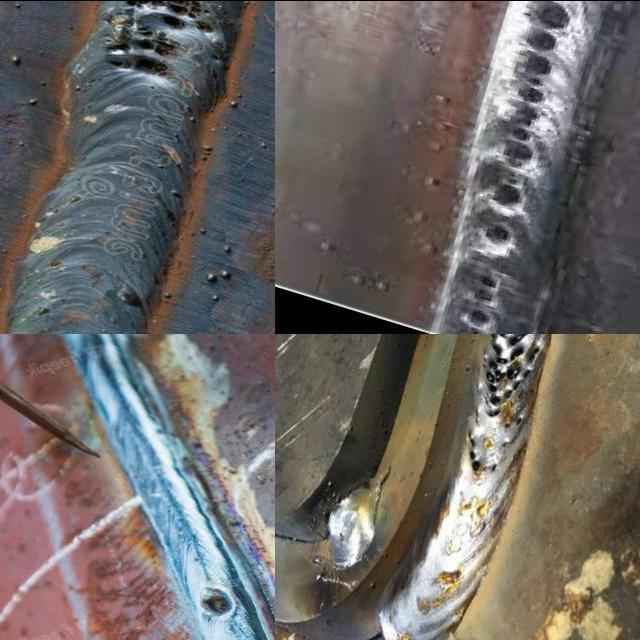defect: (495, 0, 575, 176), (480, 333, 544, 422), (102, 23, 178, 79), (124, 0, 215, 39), (455, 265, 505, 333), (474, 177, 529, 216), (473, 220, 522, 255), (197, 584, 238, 622), (467, 429, 483, 477), (498, 434, 509, 453), (489, 460, 500, 476), (474, 408, 480, 424), (515, 416, 522, 427), (504, 421, 510, 430)
